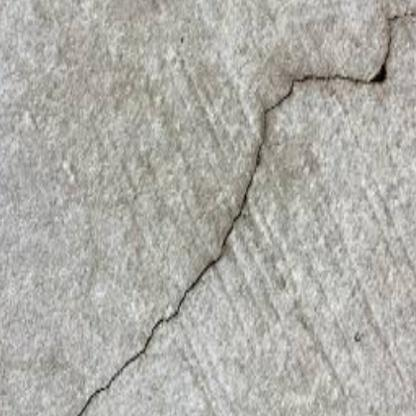Cracks: (67, 12, 412, 416)
